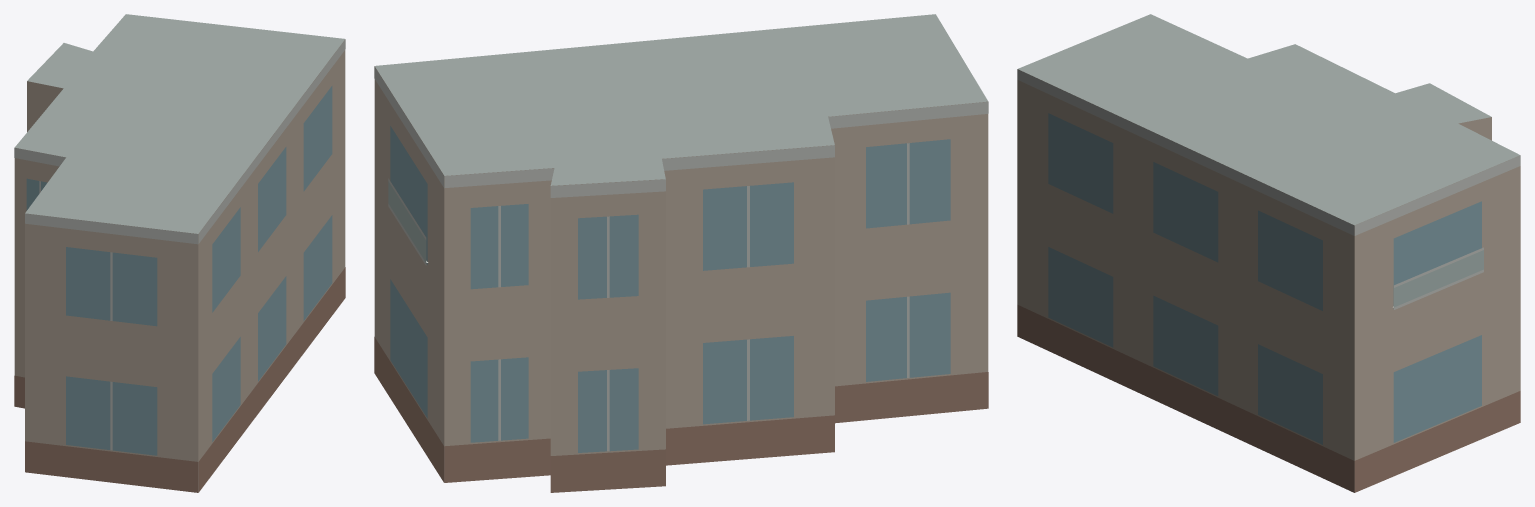
File: survey-upis-32459886.glb
3 renders of one model, left to right at view 1: azimuth 30°, elevation 25°; view 2: azimuth 150°, elevation 25°; view 3: azimuth 270°, elevation 25°, orthographic. The views are drawn at different scales.
Parts seen in each view (by area): view 1: survey-upis-32459886.tmp; view 2: survey-upis-32459886.tmp; view 3: survey-upis-32459886.tmp.
Boxes of the visible parts, x1,y1,x2,y2 form: survey-upis-32459886.tmp: [14, 14, 345, 492]; survey-upis-32459886.tmp: [374, 14, 988, 492]; survey-upis-32459886.tmp: [1017, 14, 1520, 492].
Bounding box in the file's own units: 10.35 × 6.1 × 10.41.
